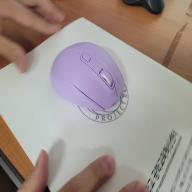mouse: (50, 42, 125, 111)
